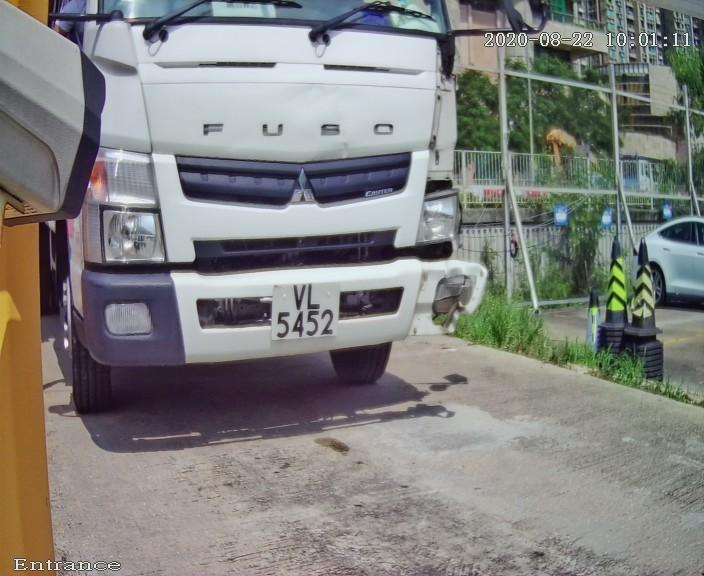License Plate: (261, 273, 349, 353)
